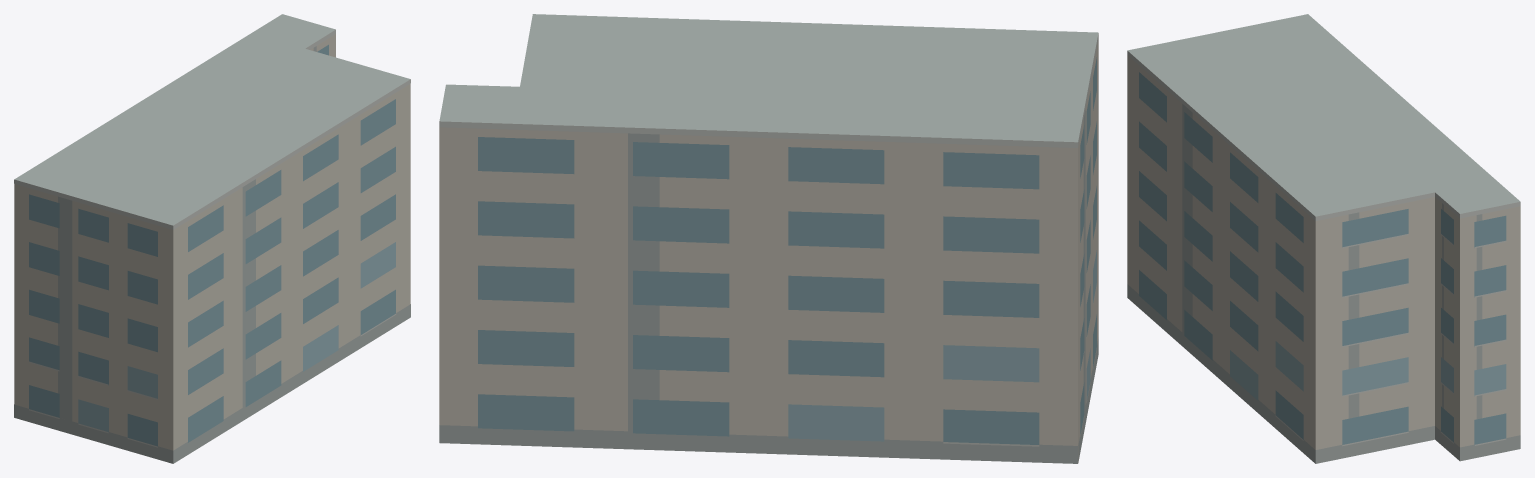
File: survey-upis-32951318.glb
3 renders of one model, left to right at view 1: azimuth 30°, elevation 25°; view 2: azimuth 150°, elevation 25°; view 3: azimuth 270°, elevation 25°, orthographic. The views are drawn at different scales.
Parts seen in each view (by area): view 1: survey-upis-32951318.tmp; view 2: survey-upis-32951318.tmp; view 3: survey-upis-32951318.tmp.
Part boxes in pixels (left/top/right/bottom): survey-upis-32951318.tmp: left=14, top=14, right=410, bottom=463; survey-upis-32951318.tmp: left=439, top=14, right=1098, bottom=463; survey-upis-32951318.tmp: left=1127, top=14, right=1520, bottom=463.
Bounding box in the file's own units: 23.57 × 13.4 × 19.33.
